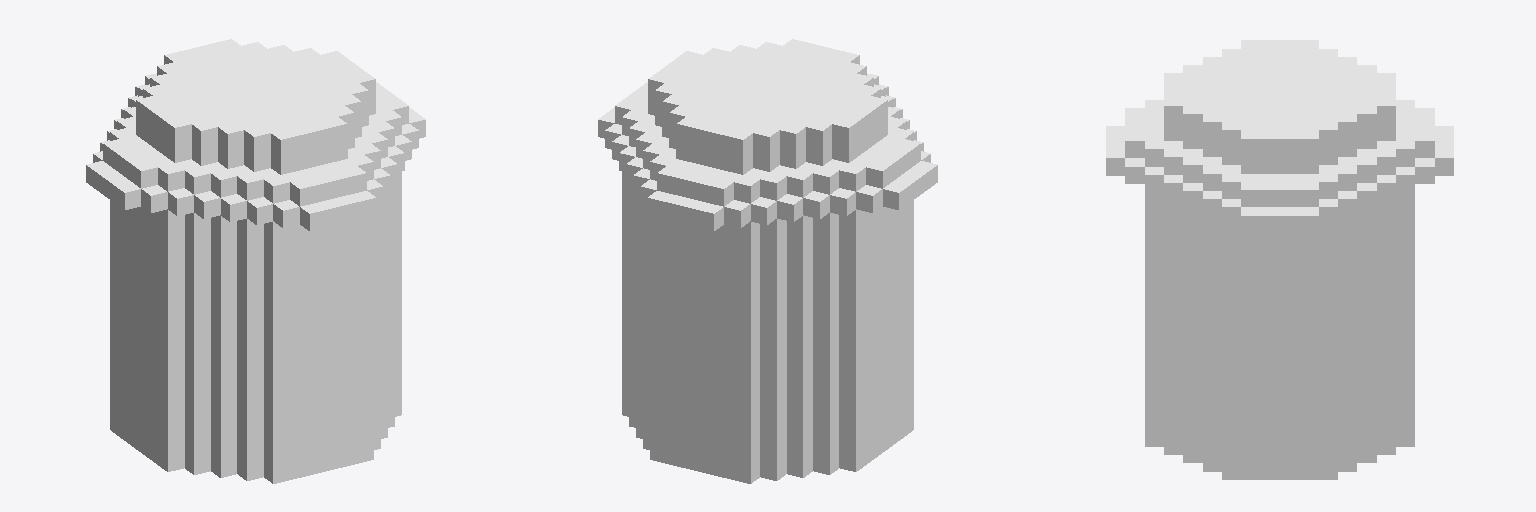
Rendered from trash.obj.
3 renders of one model, left to right at view 1: azimuth 30°, elevation 25°; view 2: azimuth 150°, elevation 25°; view 3: azimuth 270°, elevation 25°, orthographic.
Parts seen in each view (by area): view 1: object 1; view 2: object 1; view 3: object 1.
Part boxes in pixels (bbox=[...]): object 1: bbox=[86, 39, 425, 483]; object 1: bbox=[598, 39, 937, 483]; object 1: bbox=[1106, 40, 1453, 479].
Bounding box in the file's own units: 1.8 × 1.9 × 1.8.